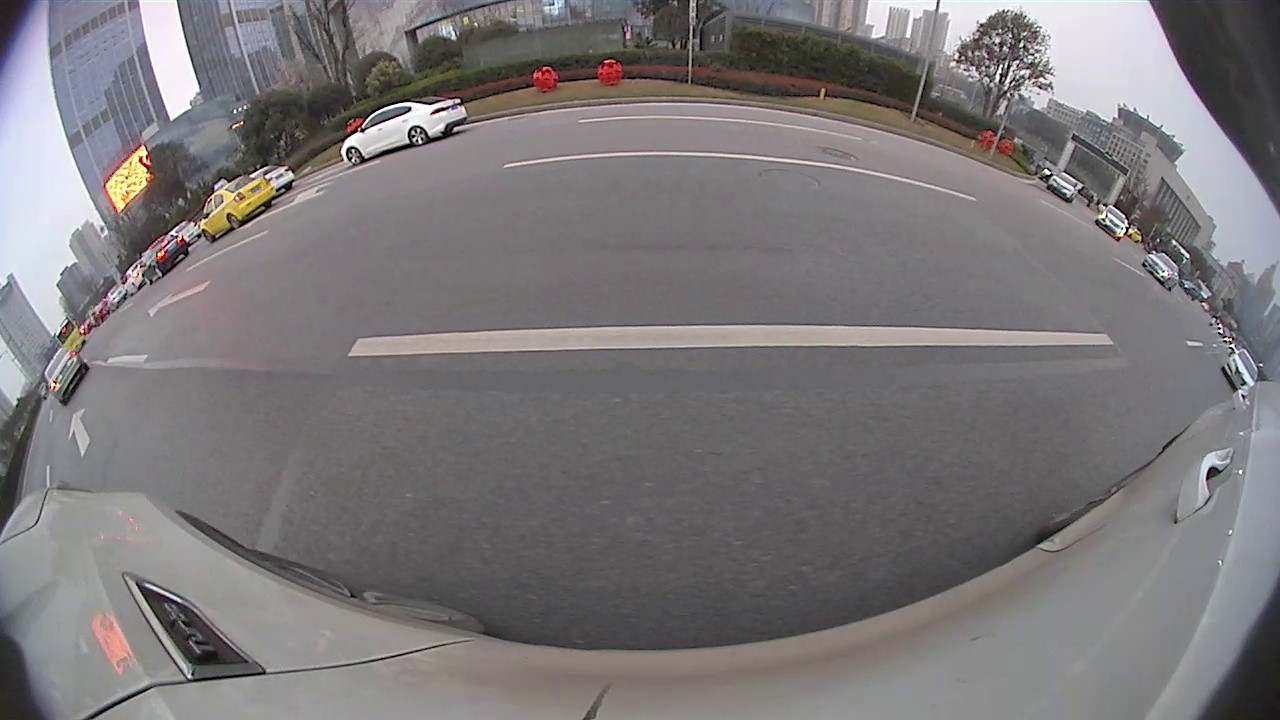car: (339, 94, 468, 169), (196, 172, 278, 246), (39, 345, 90, 406), (139, 232, 192, 287), (1220, 349, 1259, 390), (1143, 251, 1182, 291), (1096, 202, 1130, 238), (1047, 168, 1083, 202), (262, 163, 296, 196)
front: (345, 146, 364, 166), (201, 228, 217, 244)
rear: (408, 125, 429, 147), (226, 213, 243, 230), (262, 199, 273, 210), (283, 182, 293, 192)
